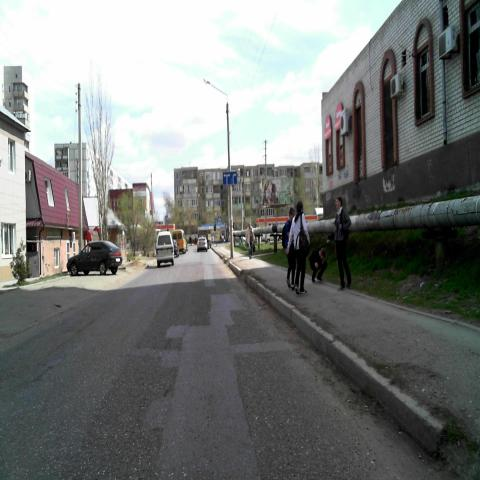5_15_2_2: (222, 171, 238, 185)
